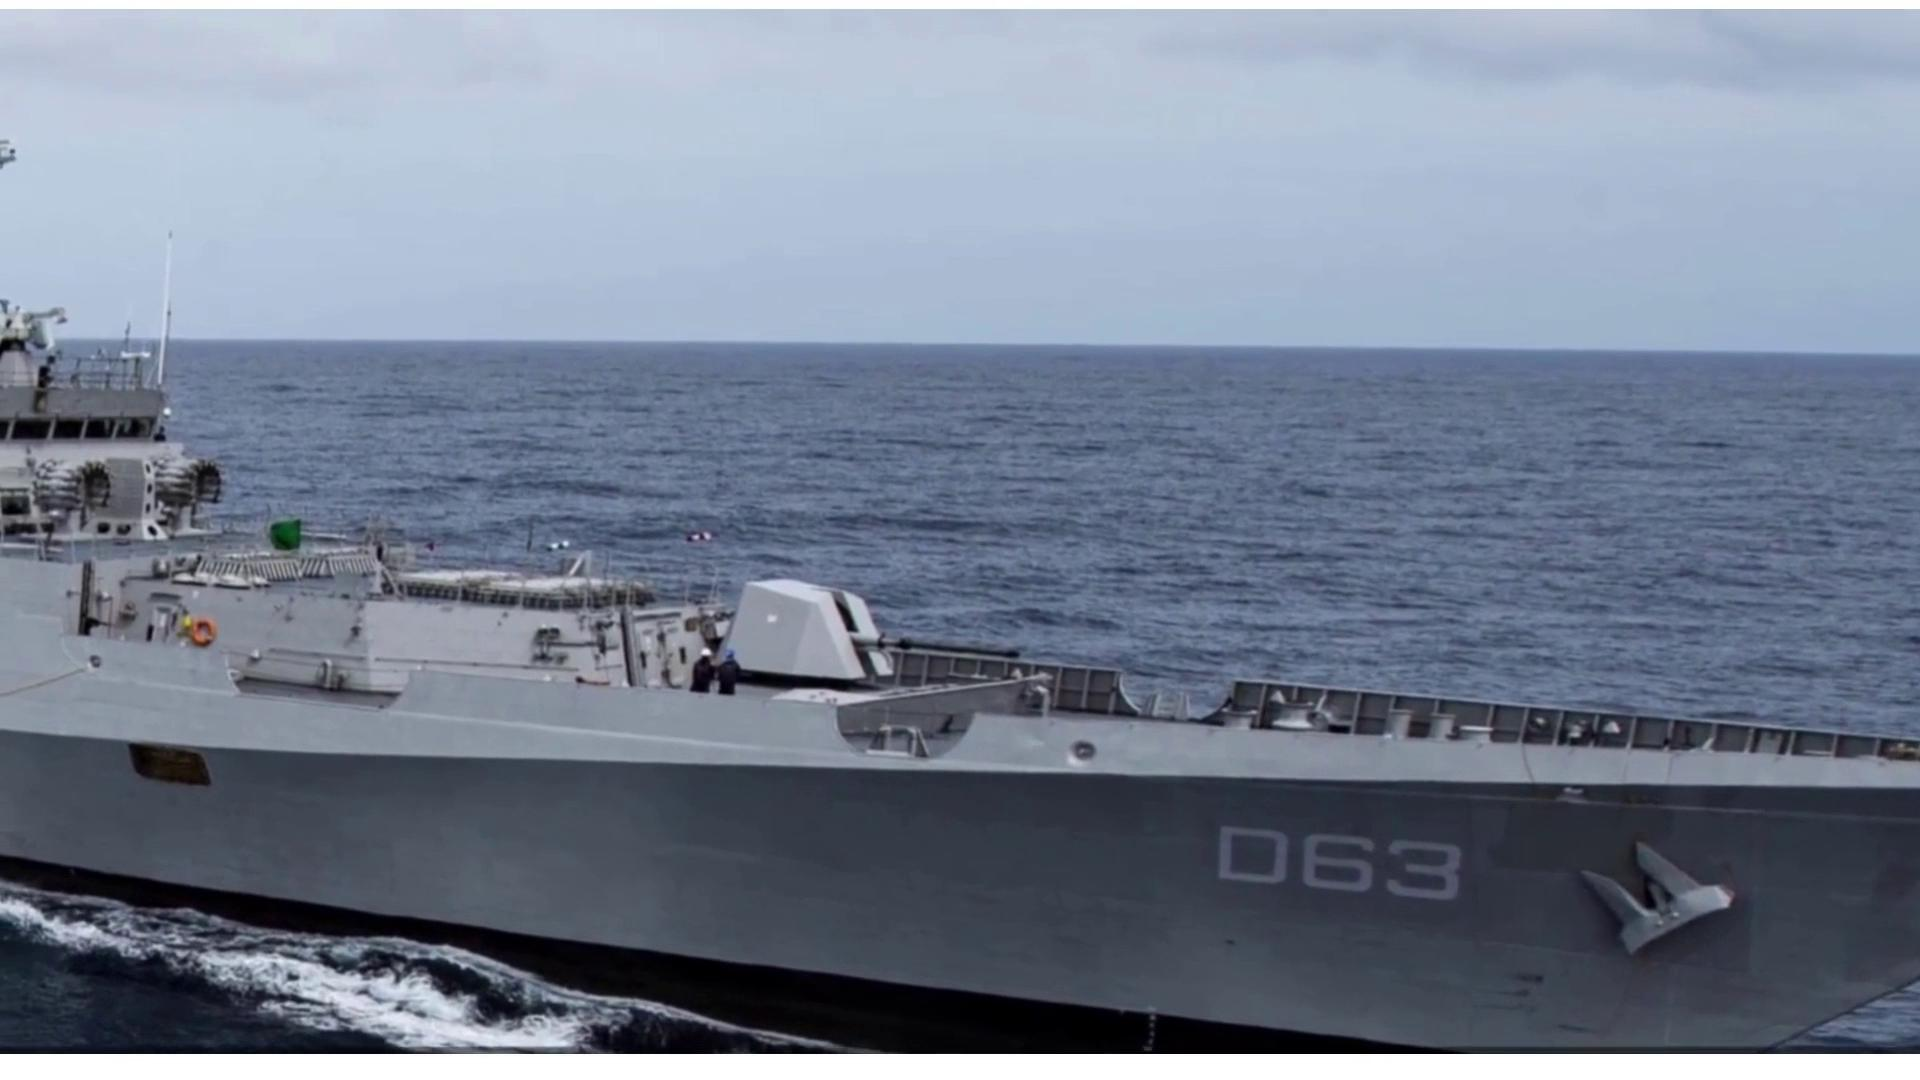OCR: (1208, 819, 1473, 915)
